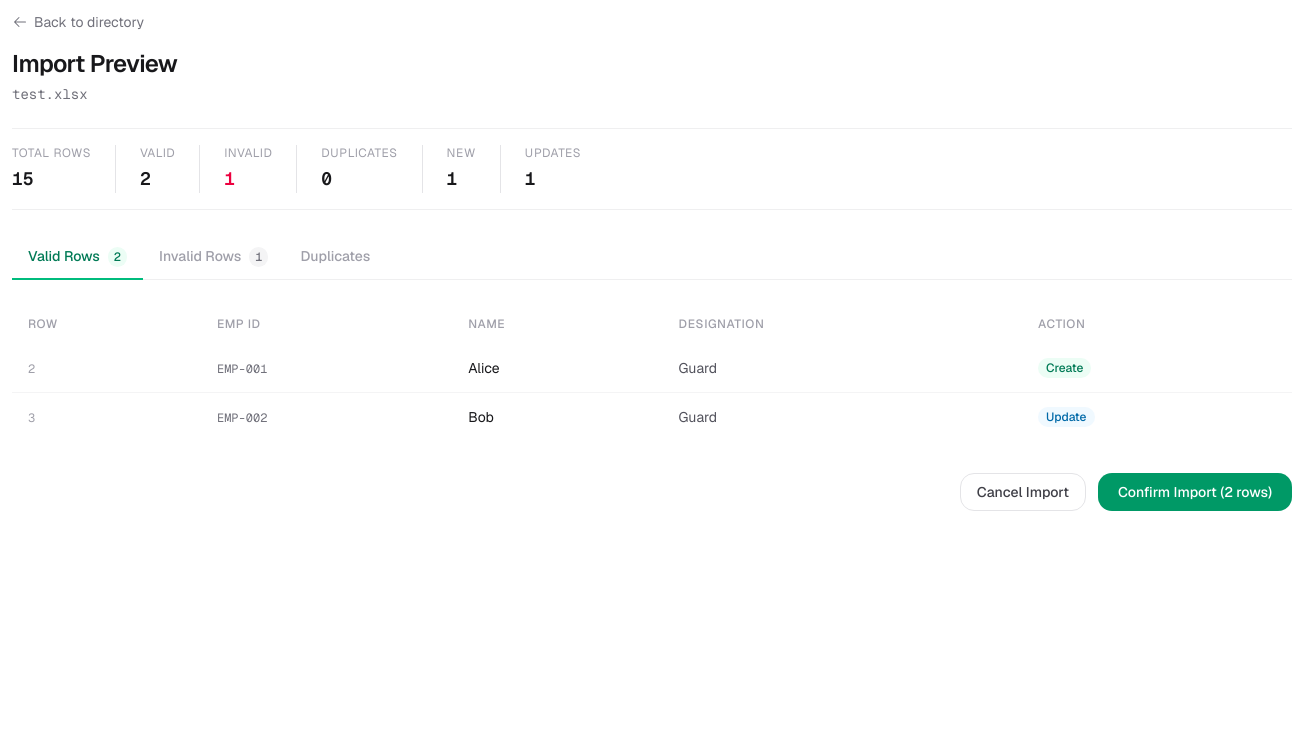
ImportPreviewClient › valid rows tab with fixed rows › shows "Fixed" indicator for rows with source="fixed"
Note: Fix a row
Click the tab "Invalid Rows1" at (214, 257), box [143,234,284,280]
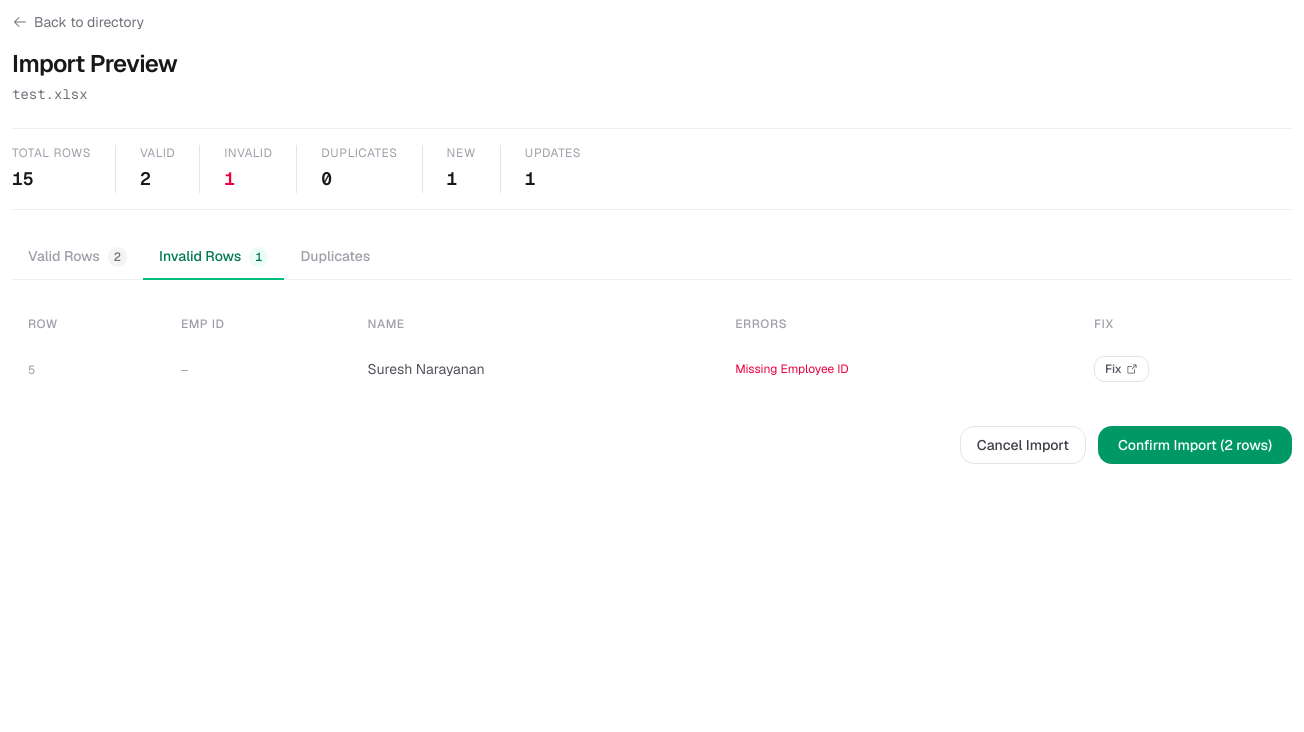
Click the button "Fix" at (1121, 369), box [1094,356,1149,382]
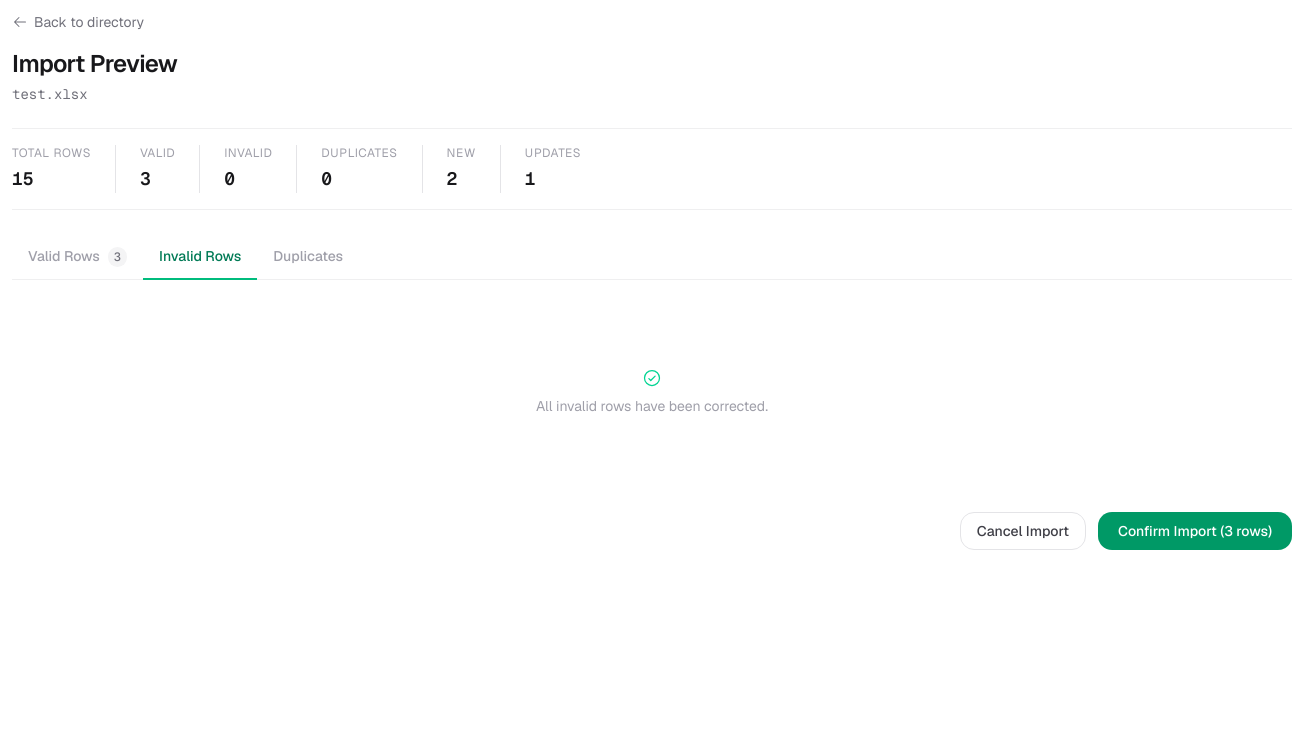
Note: Switch to Valid Rows tab to see the fixed row
Click the tab "Valid Rows3" at (78, 257), box [12,234,143,280]
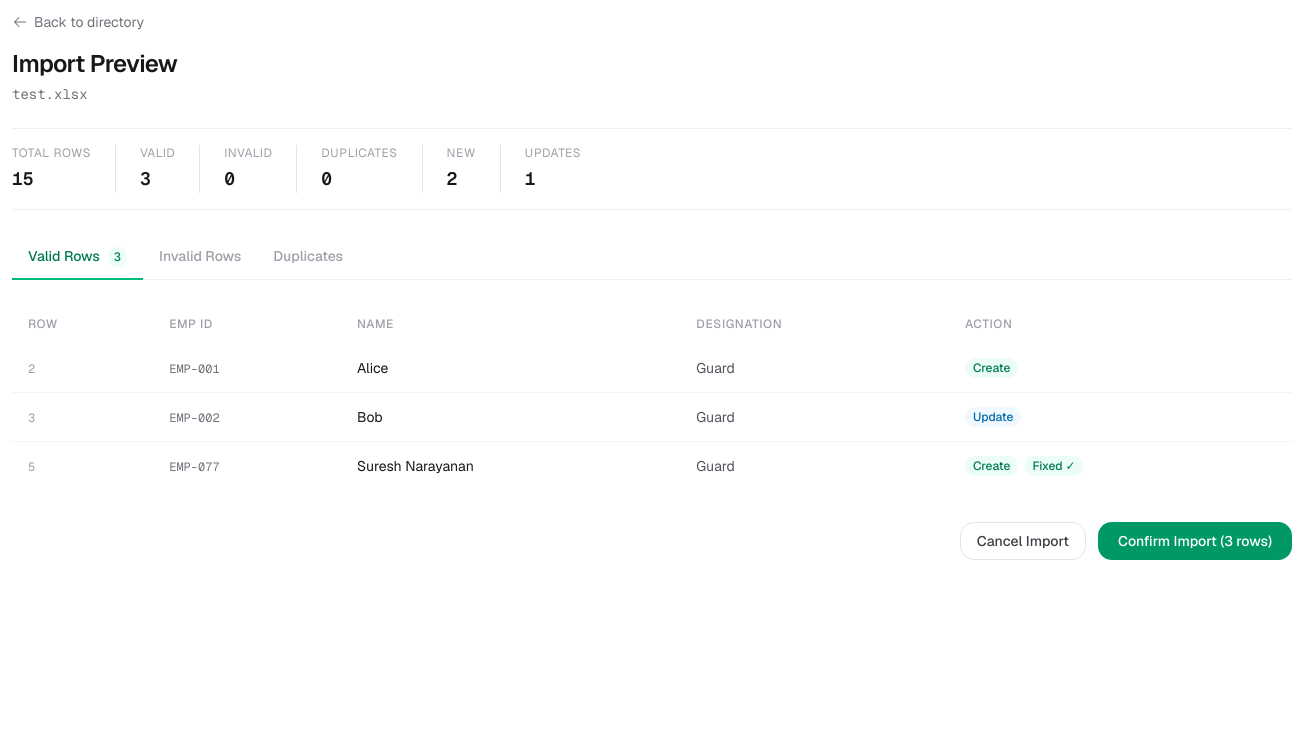
Now the text "Fixed ✓" is shown, box [1024,456,1084,476]
